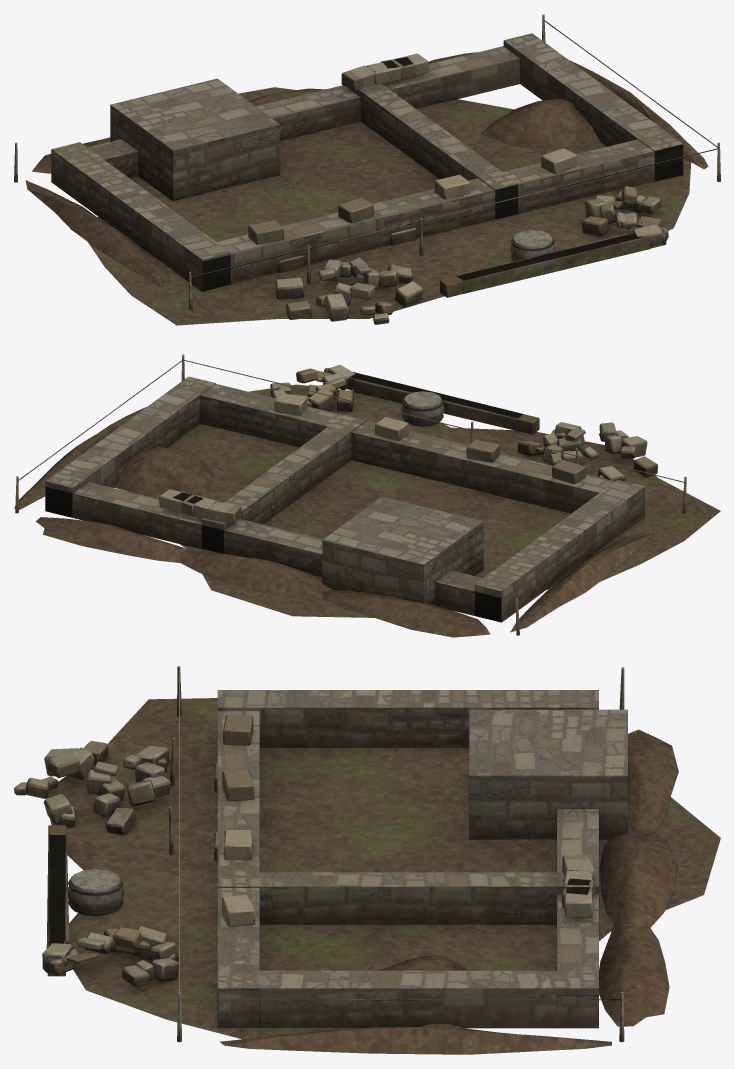
Rendered from blacksmith_build1.glb.
The picture shows the model from 3 angles, top to bottom: view 1: azimuth 30°, elevation 25°; view 2: azimuth 150°, elevation 25°; view 3: azimuth 270°, elevation 25°; orthographic projection. The views are drawn at different scales.
Parts seen in each view (by area): view 1: blacksmith_build1_LOD0; view 2: blacksmith_build1_LOD0; view 3: blacksmith_build1_LOD0.
Boxes of the visible parts, box(x1,y1,x2,y2) form: blacksmith_build1_LOD0: box(14, 14, 720, 325); blacksmith_build1_LOD0: box(14, 354, 720, 637); blacksmith_build1_LOD0: box(14, 666, 720, 1054).
Size of what is drawn, in the model's own units: 11.09 by 0.95 by 9.27.
1 material, 1 textured.
